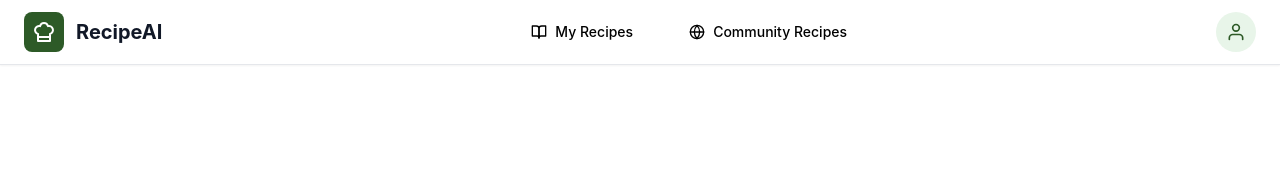
Test: Header › when user is signed in › shows user email in dropdown
Click the button with test id "user-menu" at x=1236, y=32, box [1216,12,1256,52]
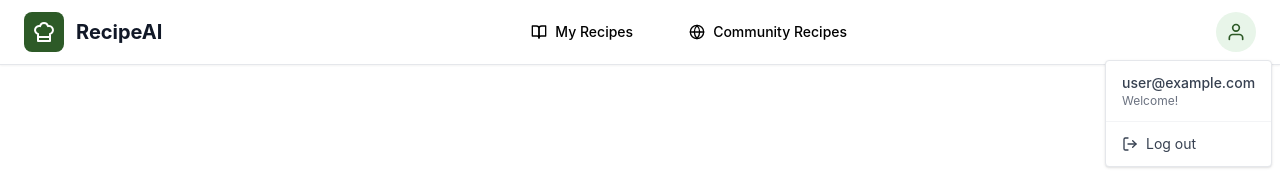
Result: the text "user@example.com" is shown at [1122,73,1255,93]
